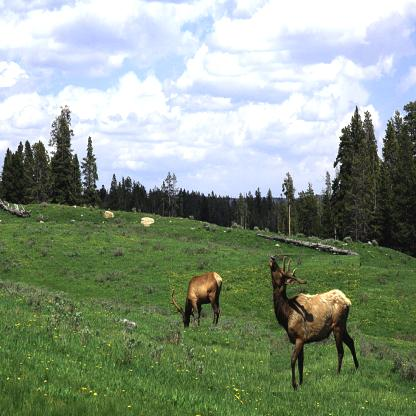Deer: (270, 255, 360, 392), (170, 270, 222, 331)
